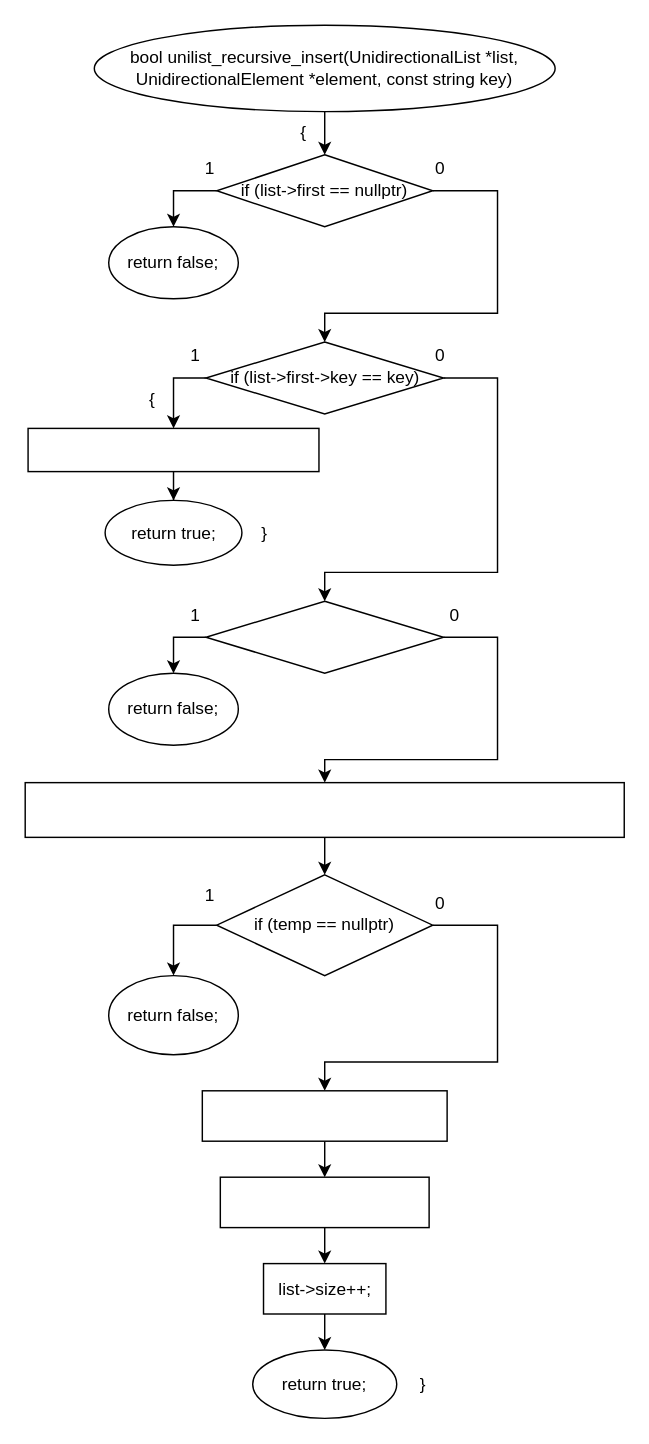
Image size: 649x1444. Some labels were removed from this diagram. The centre of each missing label's shape, as x and y in pixels:
"element->next = temp->next;" goes at (x=324, y=1115).
"if (list->first == list->last)" goes at (x=324, y=636).
"temp->next = element;" goes at (x=324, y=1202).
"UnidirectionalElement *temp = _unilist_recursive_search(list->first, key);" goes at (x=324, y=809).
"unilist_add_before(list, element);" goes at (x=173, y=449).
